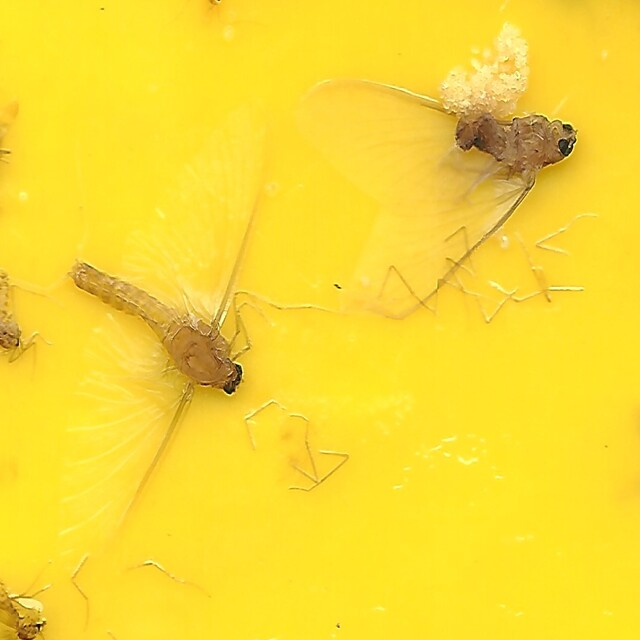Ephemeroptera: (61, 113, 275, 563), (303, 77, 579, 330)
